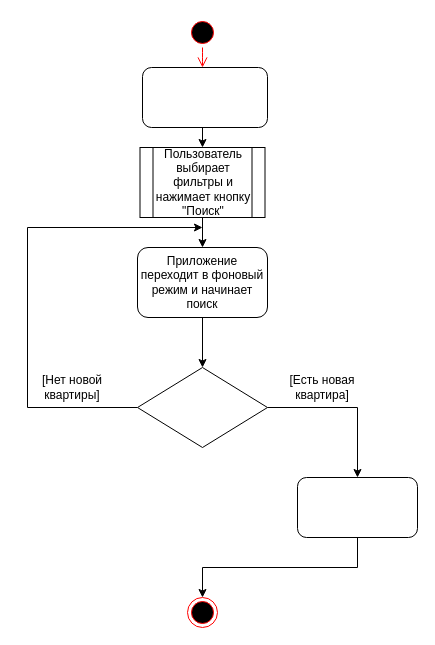
Image size: 435x645. Some labels were removed from this diagram. Each missing label, with the box of its shape:
Вывод окна с фильтрами поиска: (142, 66, 268, 128)
Отправляется уведомление на почту пользователя: (296, 476, 418, 538)
